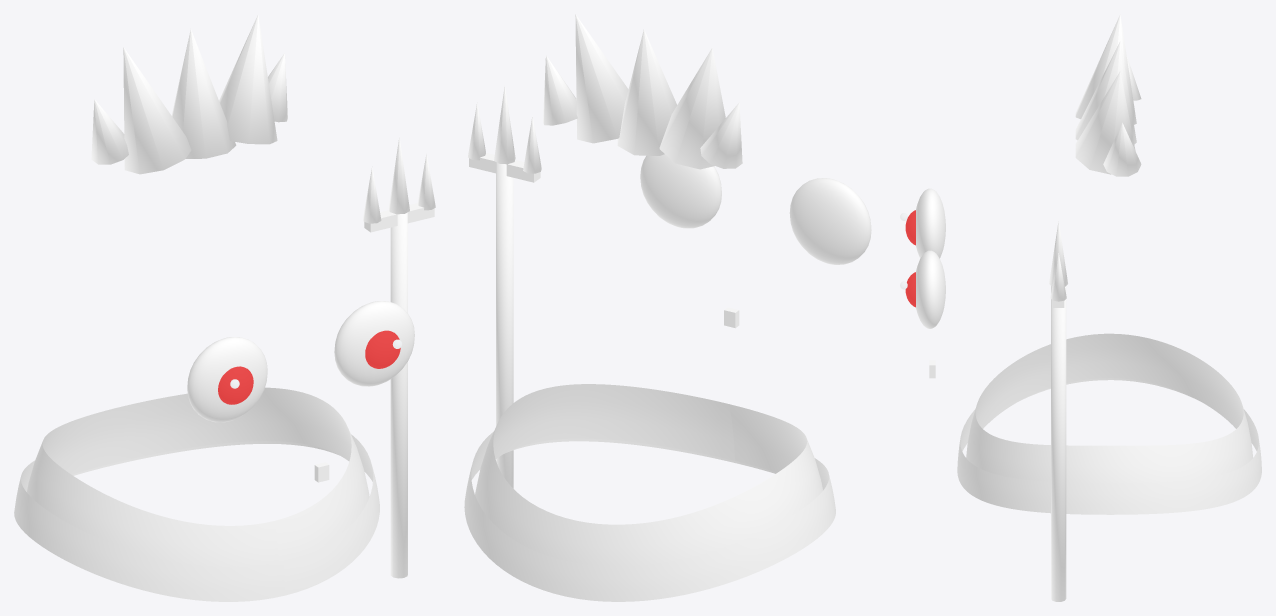
Rendered from trait-oneoff-redd.glb.
The picture shows the model from 3 angles, left to right: view 1: azimuth 30°, elevation 25°; view 2: azimuth 150°, elevation 25°; view 3: azimuth 270°, elevation 25°; orthographic projection. The views are drawn at different scales.
Parts seen in each view (by area): view 1: trait_oneoff_body_rcollar, trait_oneoff_body_rlining, trait_oneoff_trident, trait_oneoff_flametuft_0, trait_oneoff_flametuft_2, trait_oneoff_reye_L, trait_oneoff_reye_R, trait_oneoff_flametuft_1, trait_oneoff_dhorn_L, trait_oneoff_rglow_L, trait_oneoff_rglow_R, trait_oneoff_dhorn_R (+4 smaller); view 2: trait_oneoff_body_rcollar, trait_oneoff_body_rlining, trait_oneoff_reye_L, trait_oneoff_trident, trait_oneoff_reye_R, trait_oneoff_flametuft_2, trait_oneoff_flametuft_1, trait_oneoff_flametuft_0, trait_oneoff_dhorn_L, trait_oneoff_dhorn_R, trait_oneoff_triprong_c, trait_oneoff_tribar (+2 smaller); view 3: trait_oneoff_body_rcollar, trait_oneoff_body_rlining, trait_oneoff_trident, trait_oneoff_flametuft_2, trait_oneoff_reye_R, trait_oneoff_reye_L, trait_oneoff_flametuft_1, trait_oneoff_flametuft_0, trait_oneoff_dhorn_R, trait_oneoff_triprong_c.
Boxes of the visible parts, x1,y1,x2,y2 form: trait_oneoff_body_rcollar: [27, 387, 369, 566]; trait_oneoff_body_rlining: [14, 434, 379, 601]; trait_oneoff_trident: [390, 212, 407, 578]; trait_oneoff_flametuft_0: [123, 47, 191, 174]; trait_oneoff_flametuft_2: [219, 14, 277, 144]; trait_oneoff_reye_L: [187, 337, 267, 422]; trait_oneoff_reye_R: [334, 301, 414, 386]; trait_oneoff_flametuft_1: [171, 29, 236, 158]; trait_oneoff_dhorn_L: [91, 99, 128, 164]; trait_oneoff_rglow_L: [218, 366, 253, 404]; trait_oneoff_rglow_R: [365, 330, 400, 368]; trait_oneoff_dhorn_R: [268, 53, 287, 122]; trait_oneoff_body_rcollar: [475, 384, 822, 566]; trait_oneoff_body_rlining: [464, 431, 835, 601]; trait_oneoff_reye_L: [789, 178, 871, 264]; trait_oneoff_trident: [496, 163, 513, 488]; trait_oneoff_reye_R: [640, 154, 721, 228]; trait_oneoff_flametuft_2: [575, 14, 628, 143]; trait_oneoff_flametuft_1: [617, 29, 676, 155]; trait_oneoff_flametuft_0: [659, 48, 725, 169]; trait_oneoff_dhorn_L: [700, 102, 742, 168]; trait_oneoff_dhorn_R: [543, 55, 577, 125]; trait_oneoff_triprong_c: [494, 85, 515, 164]; trait_oneoff_tribar: [469, 153, 540, 182]; trait_oneoff_body_rcollar: [966, 333, 1253, 482]; trait_oneoff_body_rlining: [957, 378, 1261, 514]; trait_oneoff_trident: [1051, 286, 1066, 601]; trait_oneoff_flametuft_2: [1075, 71, 1135, 174]; trait_oneoff_reye_R: [916, 250, 945, 328]; trait_oneoff_reye_L: [916, 188, 945, 258]; trait_oneoff_flametuft_1: [1075, 41, 1136, 144]; trait_oneoff_flametuft_0: [1075, 14, 1136, 124]; trait_oneoff_dhorn_R: [1103, 123, 1141, 176]; trait_oneoff_triprong_c: [1049, 221, 1067, 286].
Size of the model in its own units: 1.15 by 1.68 by 1.13.
